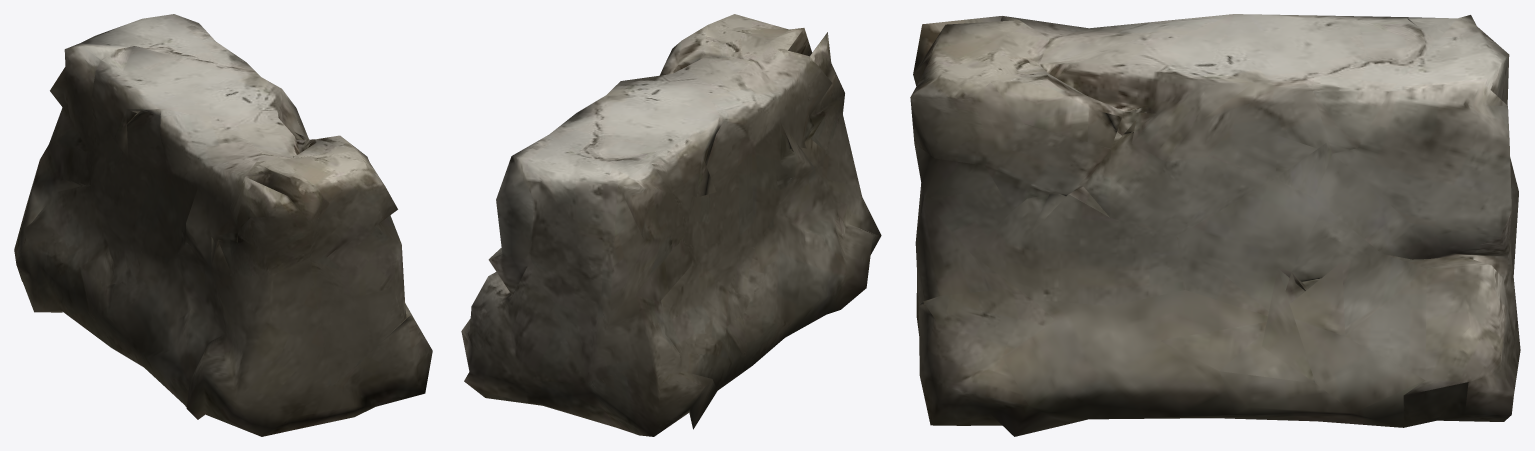
The model's file is e_block.glb.
3 views of the same model, side by side, from view 1: azimuth 30°, elevation 25°; view 2: azimuth 150°, elevation 25°; view 3: azimuth 270°, elevation 25° (orthographic). The views are drawn at different scales.
Parts seen in each view (by area): view 1: tripo_node_2c28f903-65be-4e29-bb8e-a373251f52a2; view 2: tripo_node_2c28f903-65be-4e29-bb8e-a373251f52a2; view 3: tripo_node_2c28f903-65be-4e29-bb8e-a373251f52a2.
Part boxes in pixels (bbox=[...]): tripo_node_2c28f903-65be-4e29-bb8e-a373251f52a2: bbox=[14, 14, 432, 436]; tripo_node_2c28f903-65be-4e29-bb8e-a373251f52a2: bbox=[461, 14, 881, 436]; tripo_node_2c28f903-65be-4e29-bb8e-a373251f52a2: bbox=[910, 14, 1520, 436].
Size of the model in its own units: 0.5957 by 0.6028 by 1.
1 material, 1 textured.
